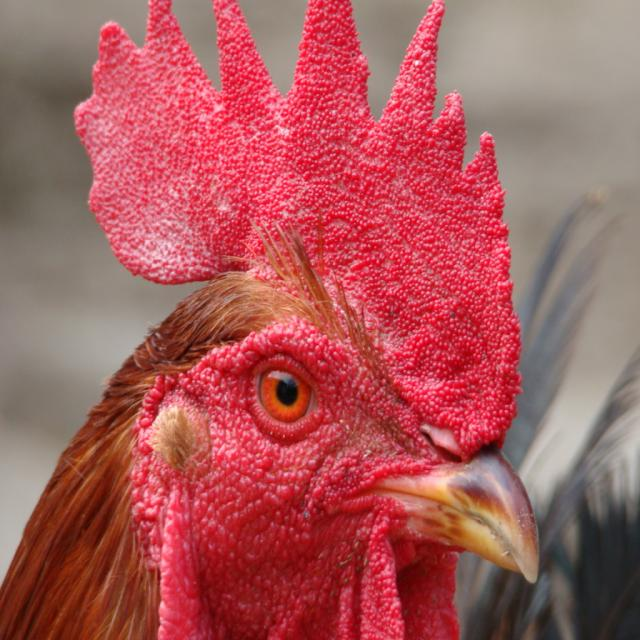Chicken: (24, 110, 535, 640)
